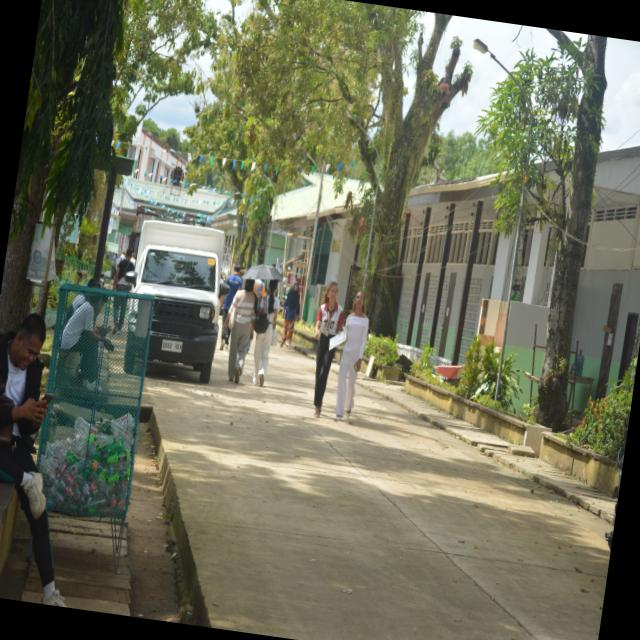person: (0, 314, 64, 606), (335, 291, 367, 421), (313, 281, 342, 417), (223, 279, 257, 383), (252, 280, 278, 386), (279, 281, 299, 348), (221, 264, 241, 321), (113, 249, 133, 292)
